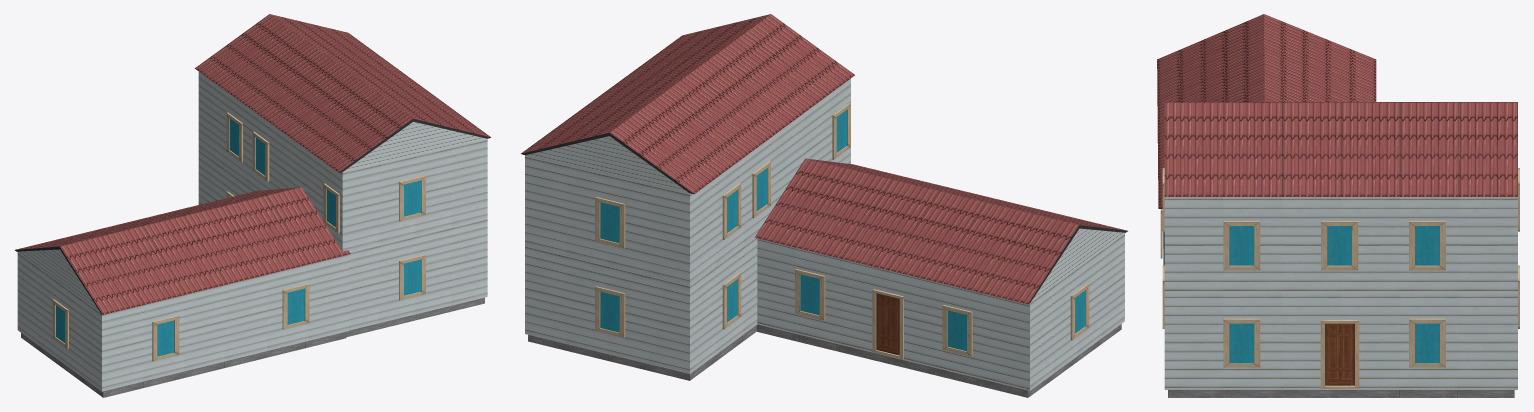
The model's file is Hus4.glb.
3 renders of one model, left to right at view 1: azimuth 30°, elevation 25°; view 2: azimuth 150°, elevation 25°; view 3: azimuth 270°, elevation 25°, orthographic. The views are drawn at different scales.
Visible parts, largest first — view 1: Hus4; view 2: Hus4; view 3: Hus4.
Boxes of the visible parts, x1=… form: Hus4: x1=15, y1=14, x2=490, y2=397; Hus4: x1=521, y1=14, x2=1127, y2=397; Hus4: x1=1157, y1=14, x2=1519, y2=397.
Size of the model in its own units: 18.27 by 9.07 by 11.87.
Materials: 1 (1 with a texture image).
